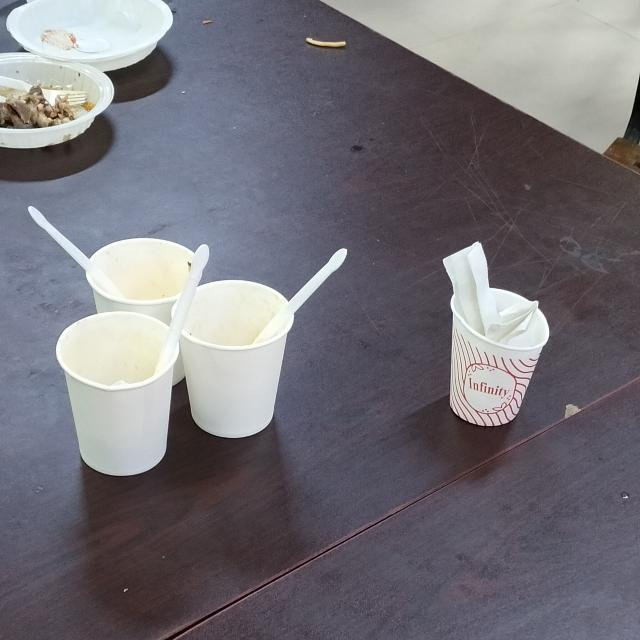kitchen paper: (439, 241, 540, 339)
